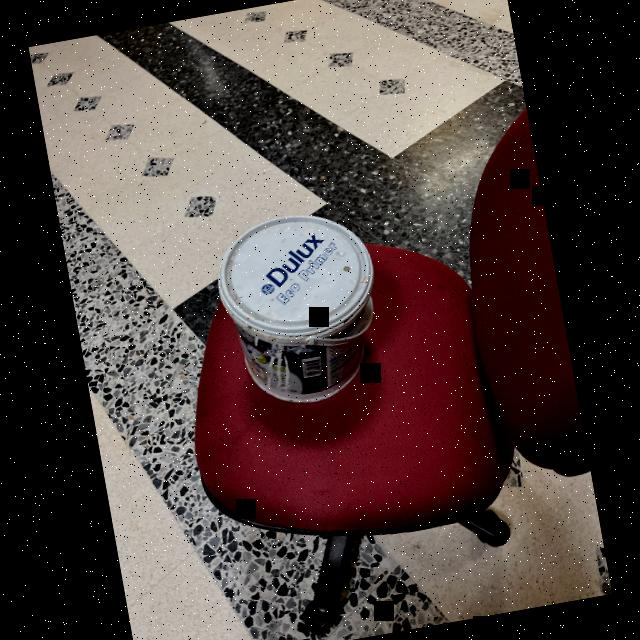paint_bucket: (210, 202, 394, 418)
